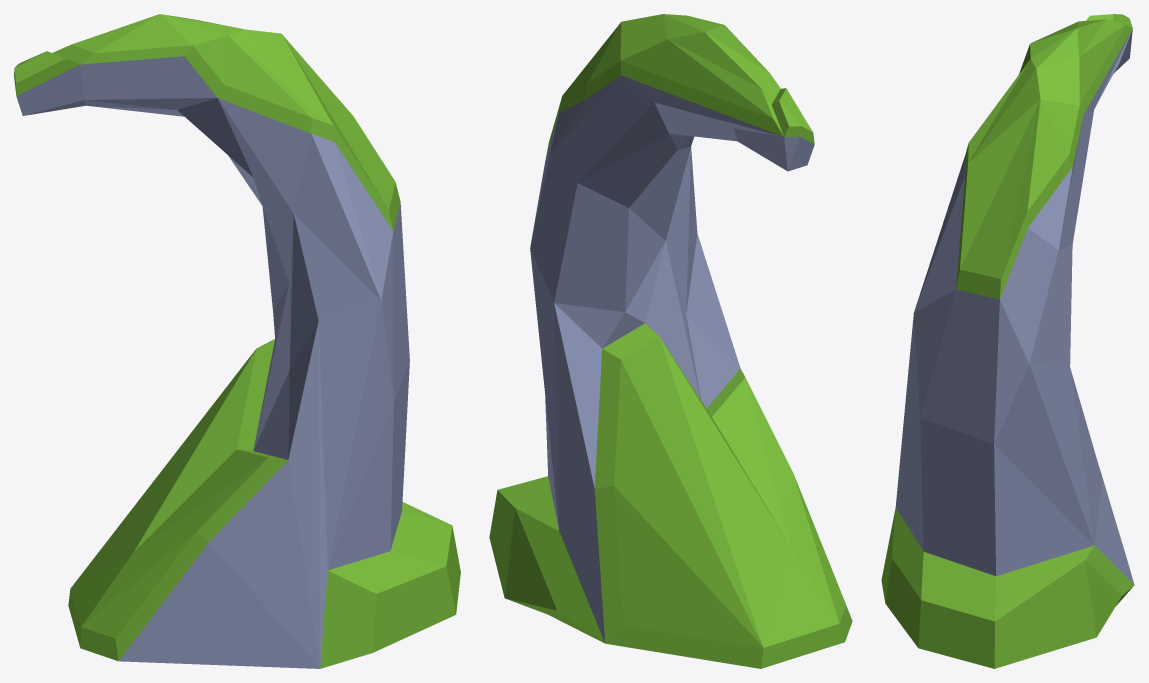
The model's file is Rock_26_1.fbx.
The picture shows the model from 3 angles, left to right: view 1: azimuth 30°, elevation 25°; view 2: azimuth 150°, elevation 25°; view 3: azimuth 270°, elevation 25°; orthographic projection. The views are drawn at different scales.
Visible parts, largest first — view 1: Rock_26_1; view 2: Rock_26_1; view 3: Rock_26_1.
Part boxes in pixels (x1,y1,x2,y2): Rock_26_1: [14, 14, 460, 668]; Rock_26_1: [489, 14, 852, 668]; Rock_26_1: [881, 14, 1134, 668].
Bounding box in the file's own units: 4.27 × 6.3 × 2.73.
